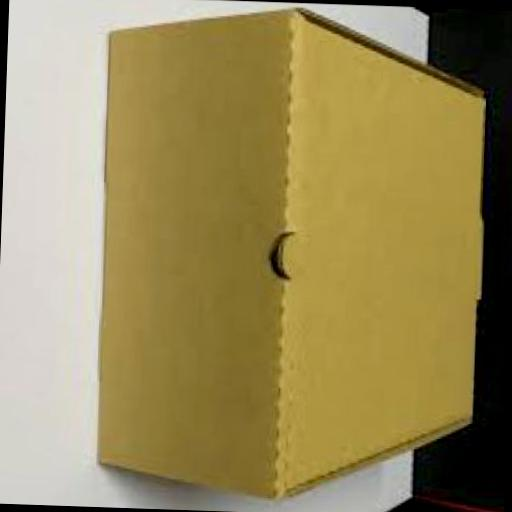cardboard: (92, 1, 494, 507)
